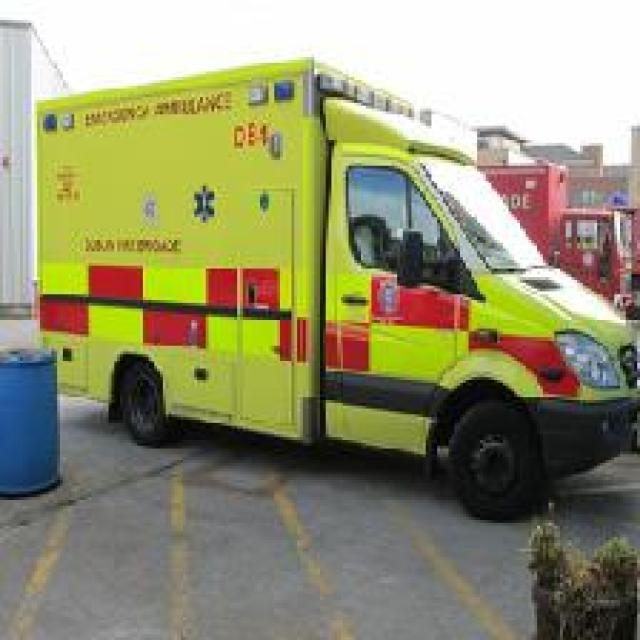emergency: (29, 55, 637, 523)
